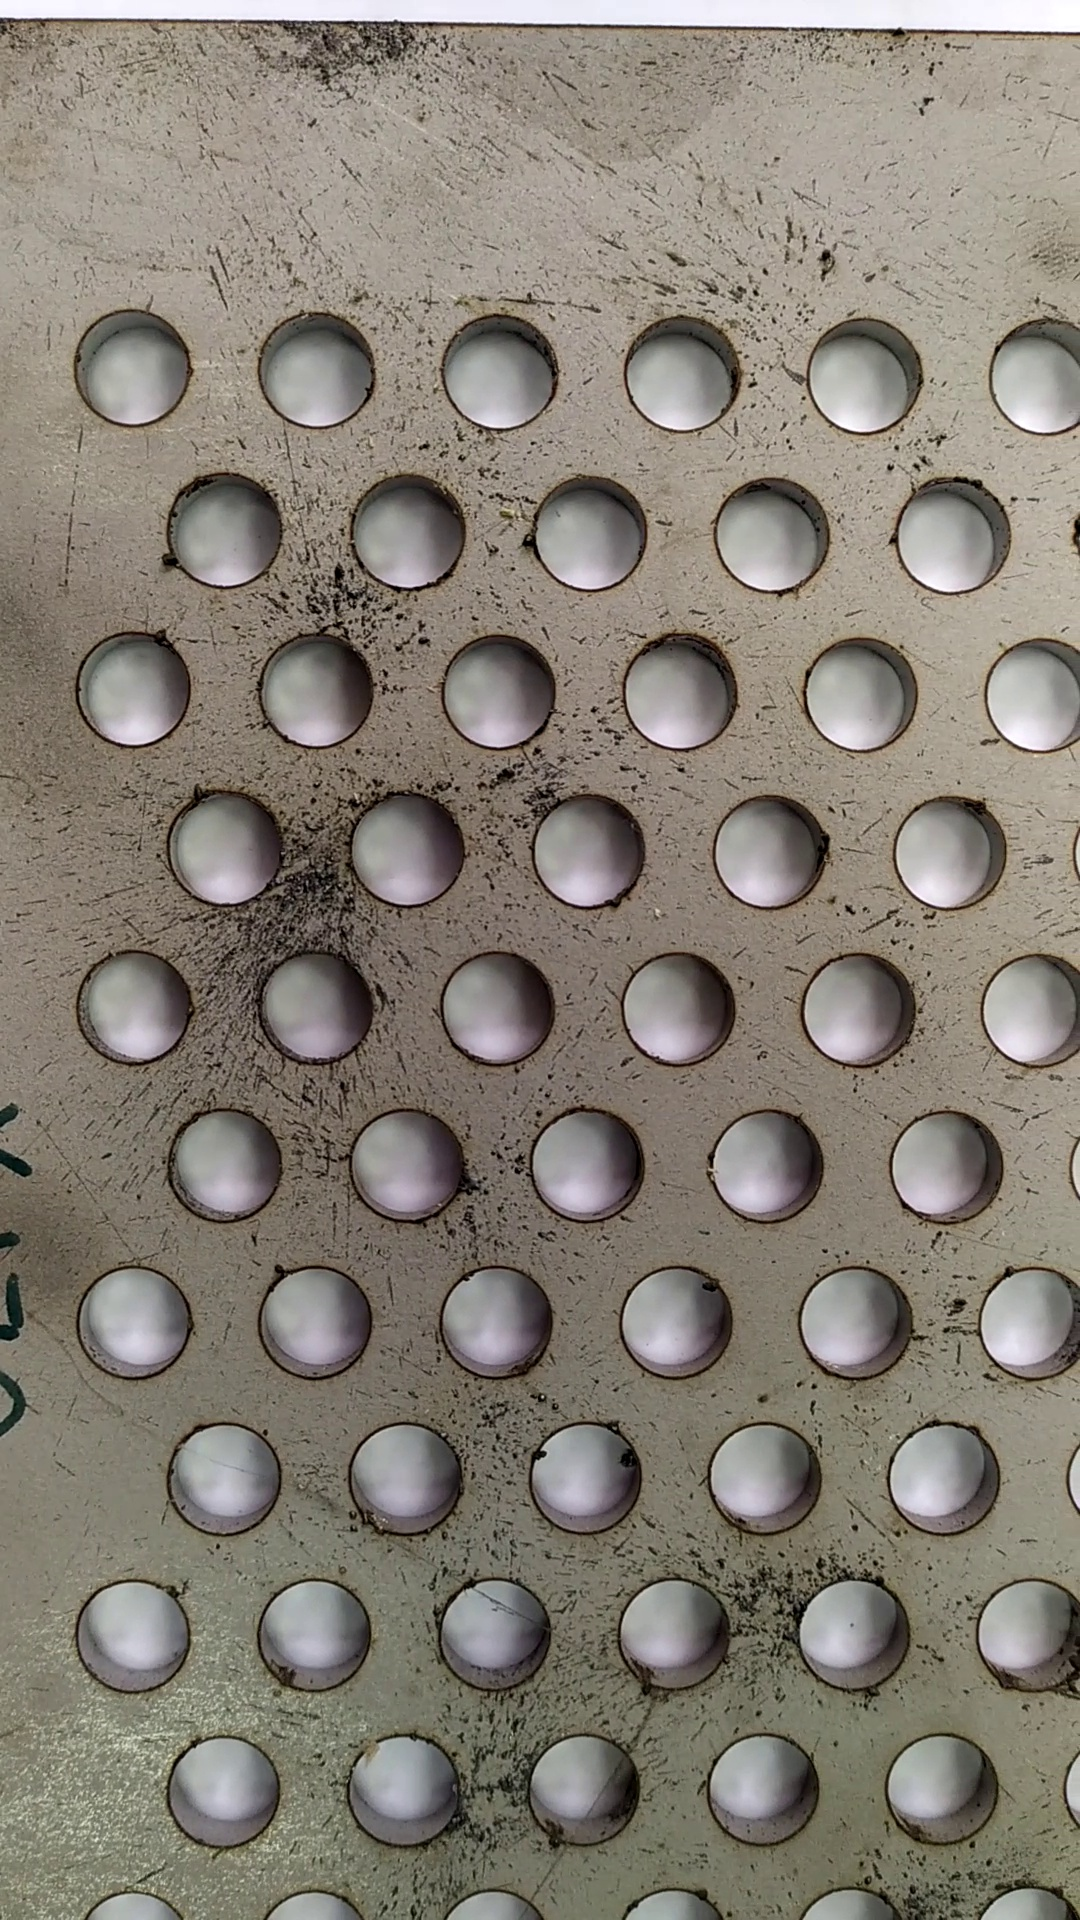Hole: (57, 284, 206, 434), (240, 295, 392, 438), (696, 1415, 855, 1545), (688, 1101, 837, 1238), (59, 1255, 212, 1387), (512, 1095, 651, 1238), (696, 469, 847, 603), (55, 1567, 210, 1695), (328, 781, 477, 911), (873, 1722, 1011, 1862), (433, 940, 568, 1081), (881, 787, 1025, 920), (338, 1101, 475, 1240), (59, 940, 202, 1073), (607, 945, 749, 1079), (149, 1415, 295, 1544), (429, 620, 564, 758), (156, 1098, 291, 1236), (249, 940, 389, 1073), (794, 940, 926, 1081), (425, 1255, 564, 1387), (241, 1573, 392, 1695), (59, 622, 200, 752), (607, 628, 745, 758), (891, 468, 1025, 603), (433, 309, 568, 440), (157, 458, 289, 593), (518, 785, 655, 915), (338, 1414, 475, 1544), (787, 1258, 920, 1391), (798, 311, 930, 446), (247, 622, 378, 756), (611, 307, 749, 434), (149, 783, 289, 909), (245, 1261, 386, 1385), (881, 1414, 1018, 1540), (340, 465, 469, 599), (881, 1102, 1014, 1232), (514, 1726, 649, 1854), (704, 783, 833, 915), (694, 1731, 833, 1851), (524, 468, 655, 595), (165, 1720, 287, 1855), (336, 1724, 465, 1850), (789, 1568, 914, 1697), (608, 1262, 745, 1379), (789, 632, 916, 752), (615, 1568, 736, 1693), (526, 1411, 645, 1538), (426, 1575, 553, 1693)
